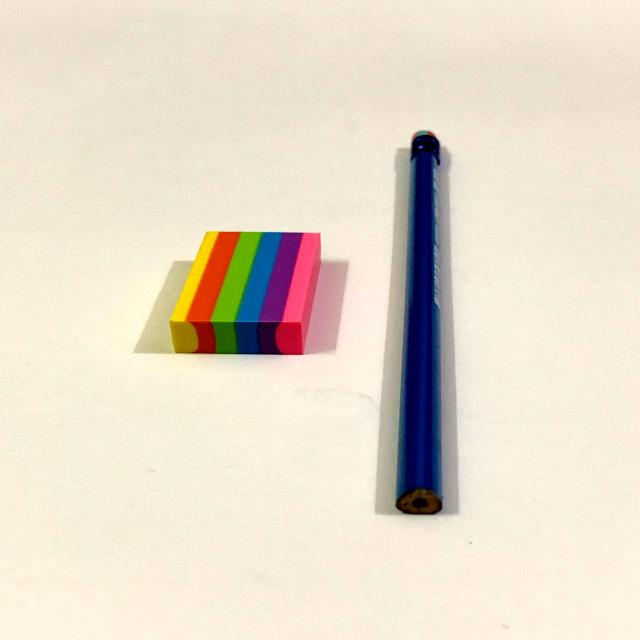Eraser: (156, 215, 334, 364)
Pencil: (368, 123, 488, 531)
